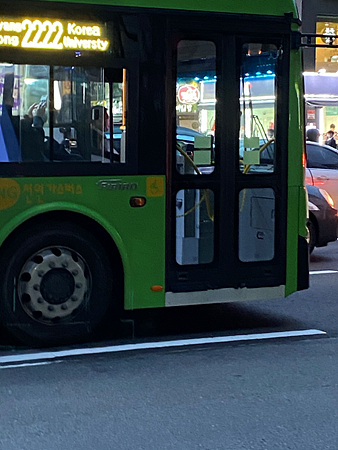entrance: (166, 16, 289, 281)
